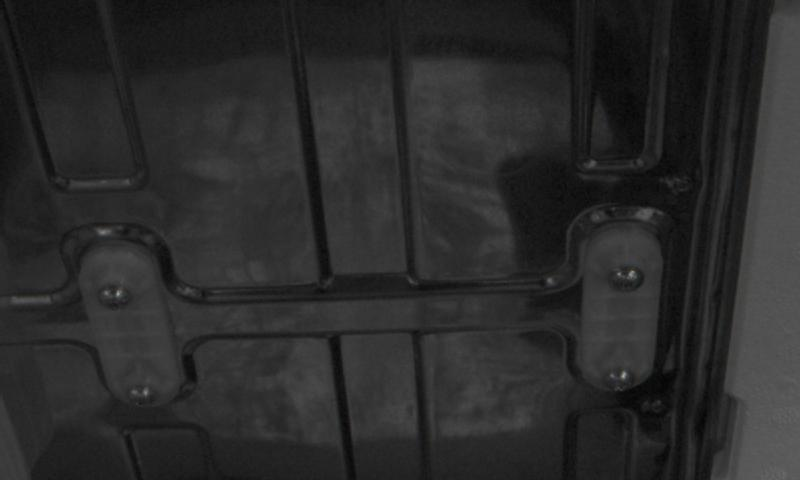vida-ok: (594, 351, 639, 398), (89, 272, 138, 315), (119, 372, 167, 410), (608, 262, 648, 305)
